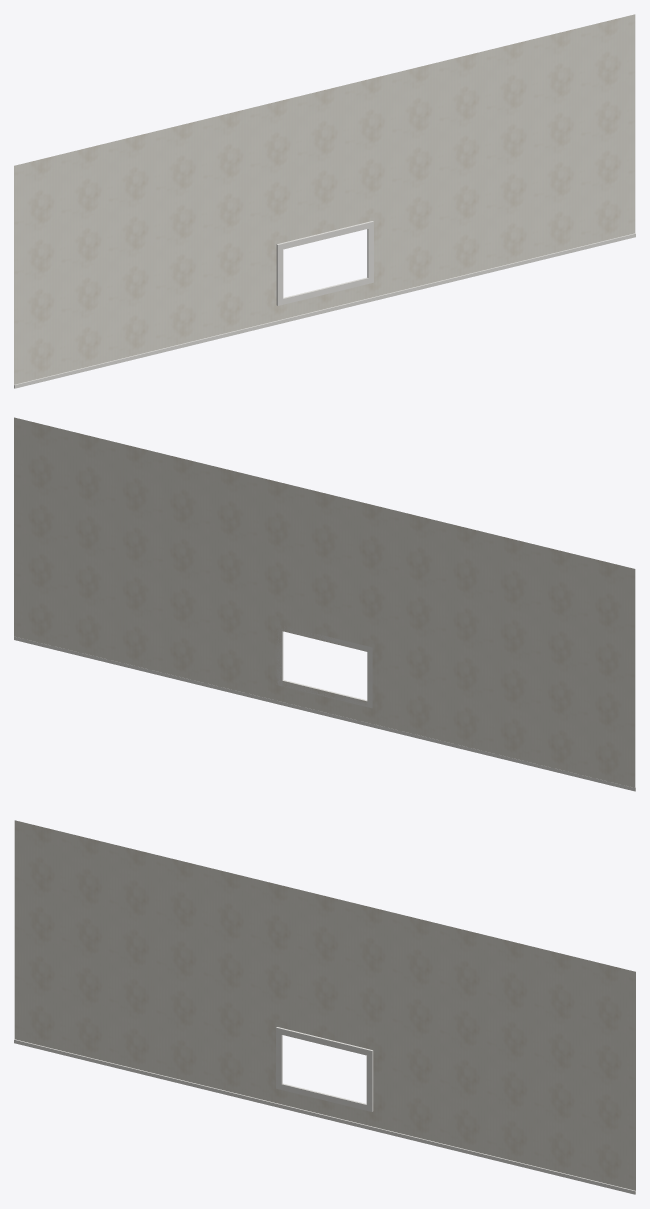
3 views of the same model, one above another, from view 1: azimuth 30°, elevation 25°; view 2: azimuth 150°, elevation 25°; view 3: azimuth 330°, elevation 25° (orthographic).
Parts seen in each view (by area): view 1: jx_wm_26_27c0de29; view 2: jx_wm_26_27c0de29; view 3: jx_wm_26_27c0de29.
Part boxes in pixels (left/top/right/bottom): jx_wm_26_27c0de29: left=14, top=14, right=635, bottom=388; jx_wm_26_27c0de29: left=14, top=417, right=635, bottom=791; jx_wm_26_27c0de29: left=14, top=820, right=635, bottom=1194.
Bounding box in the file's own units: 26.3 × 9 × 0.086.
2 materials, 2 textured.
